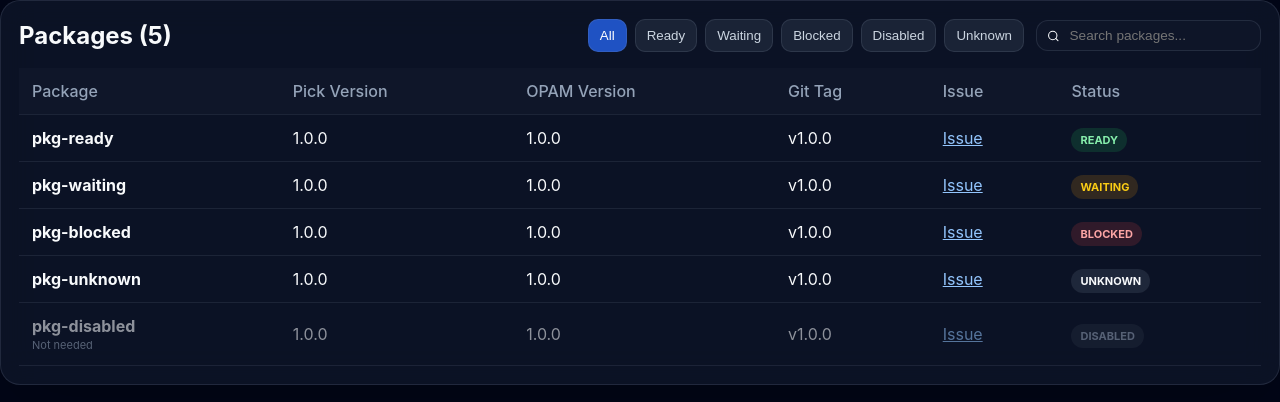
Test: PackageTable › Filtering by status › should filter packages by waiting status
Click the button "Waiting" at (739, 36), box [705,19,773,52]
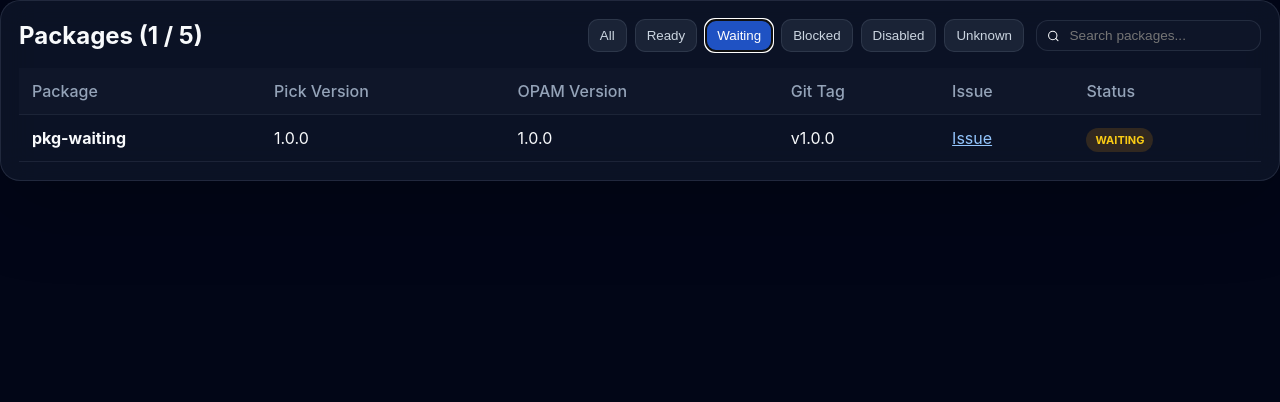
expect the text "pkg-waiting" is shown: met, box [32,128,126,148]
expect the text "pkg-ready" is gone: met
